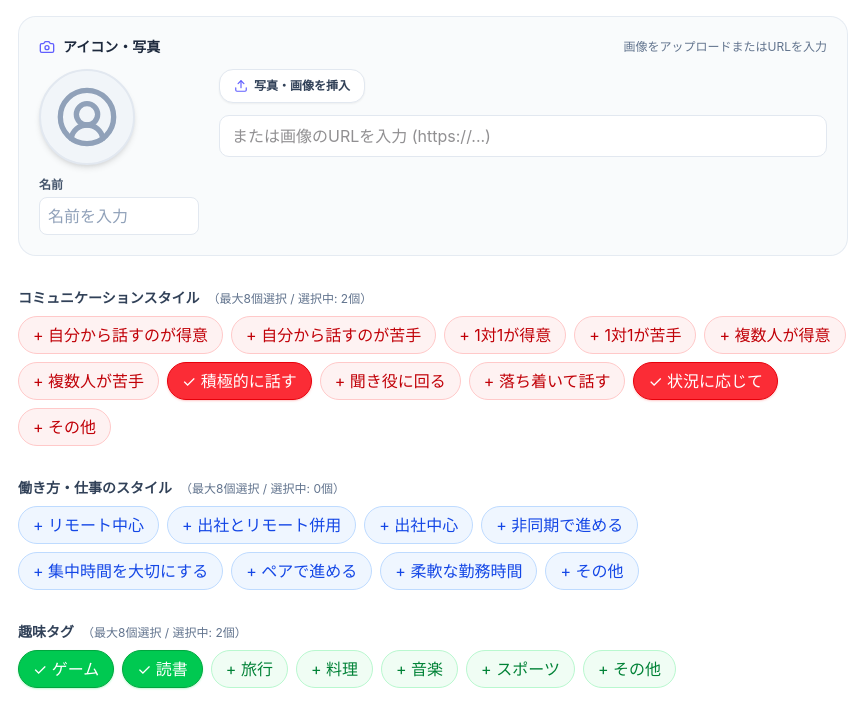
ProfileSettingsForm (Step 3 - タグ選択UIと統合) › 働き方でその他を選ぶと独自タグの追加欄が表示される
This screenshot has width=865, height=705.
Click the 2nd button "+ その他".
click(592, 571)  # box [545, 552, 638, 590]
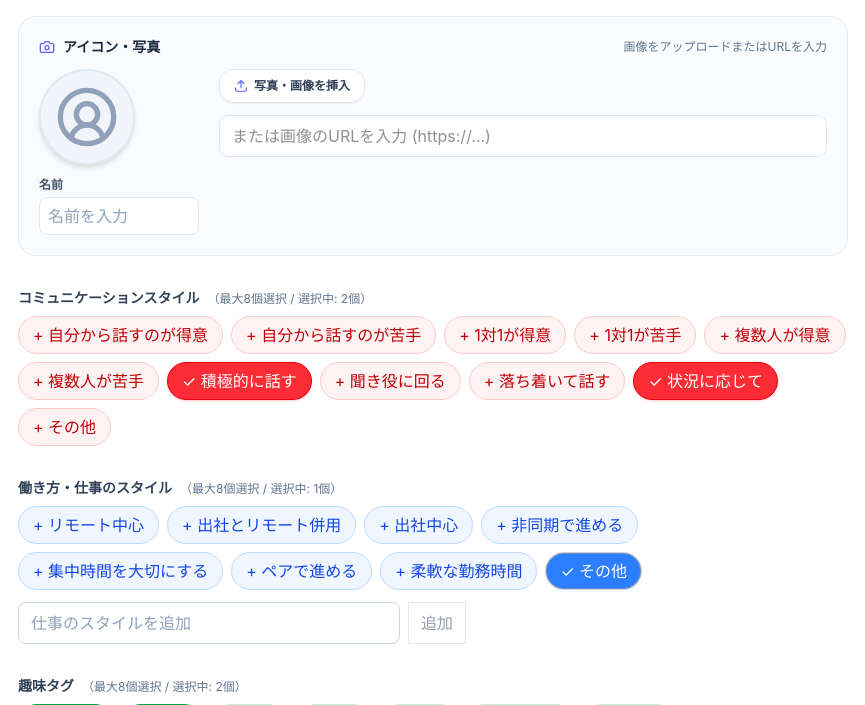
Type "フレックスタイム" into the field named "働き方・仕事のスタイルのカスタムタグ".
click(209, 623); type("フレックスタイム")  # box [18, 602, 400, 644]
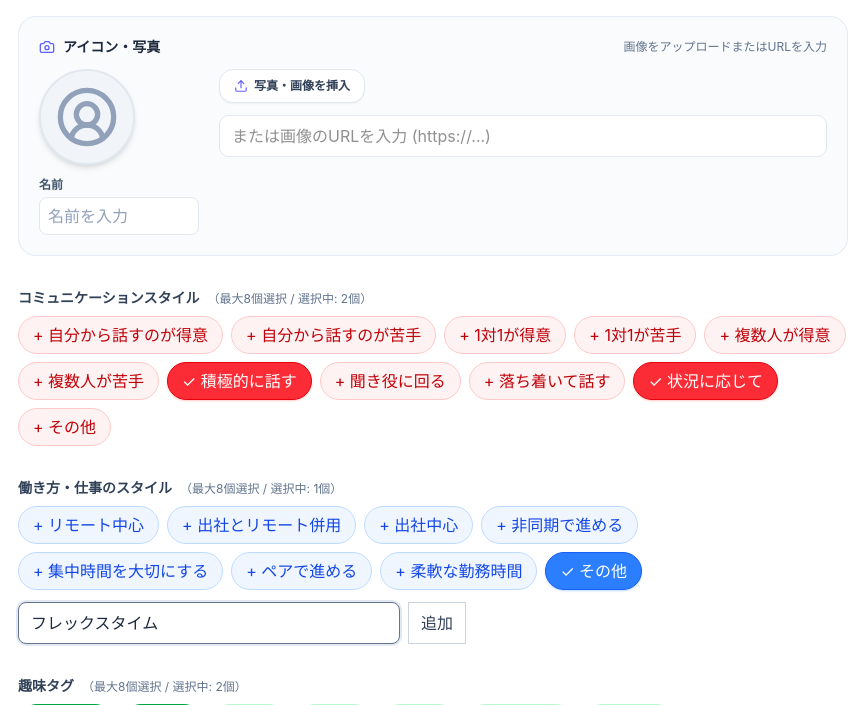
Click the button with aria-label "働き方・仕事のスタイルにタグを追加".
click(437, 623)  # box [408, 602, 466, 644]
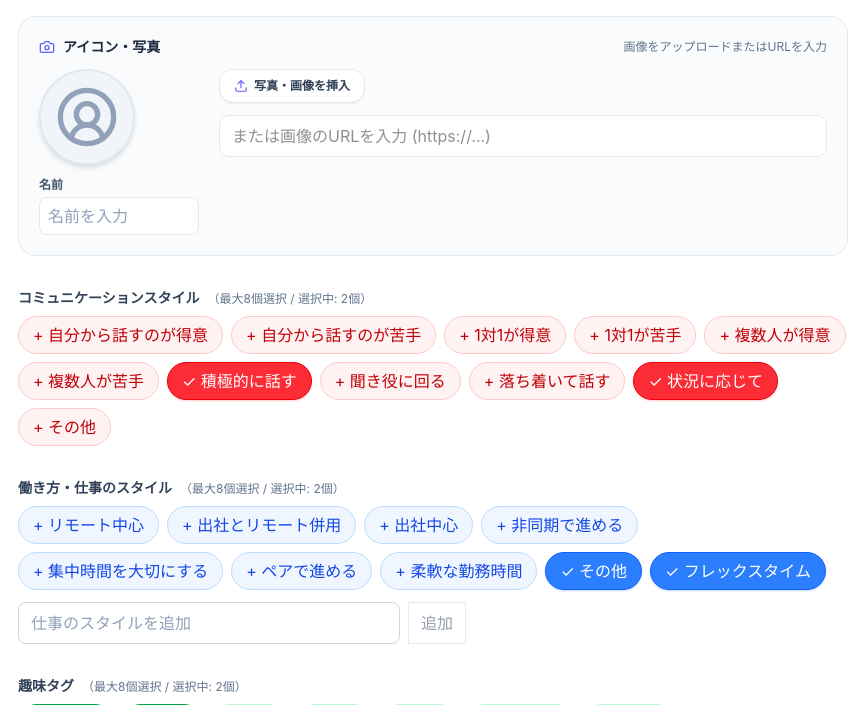
expect the button "✓ フレックスタイム" is shown: met, box [650, 552, 826, 590]
